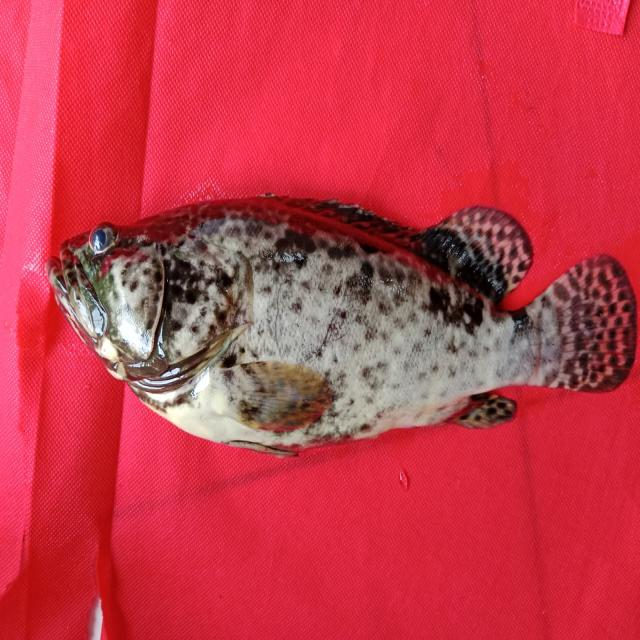ikan: (36, 174, 633, 466)
